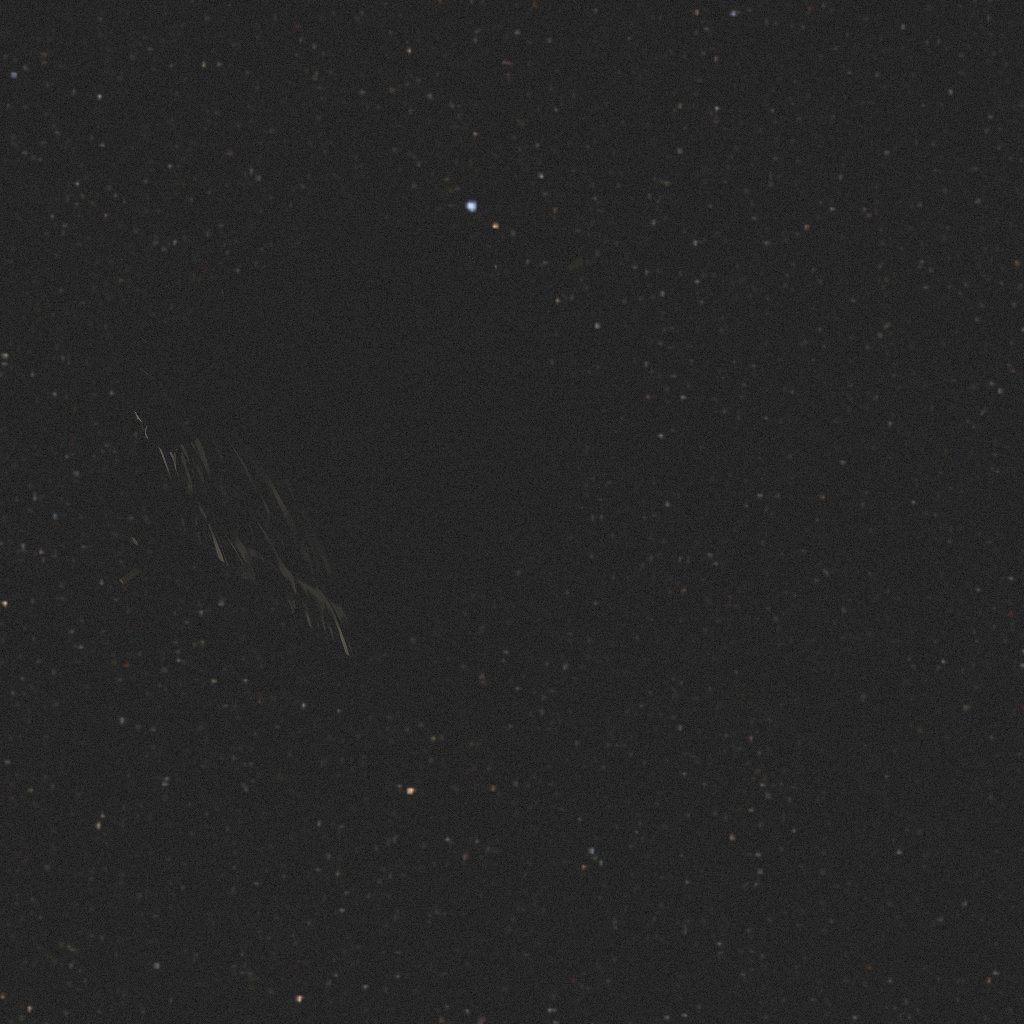smart_1: (0, 162, 1024, 897)
